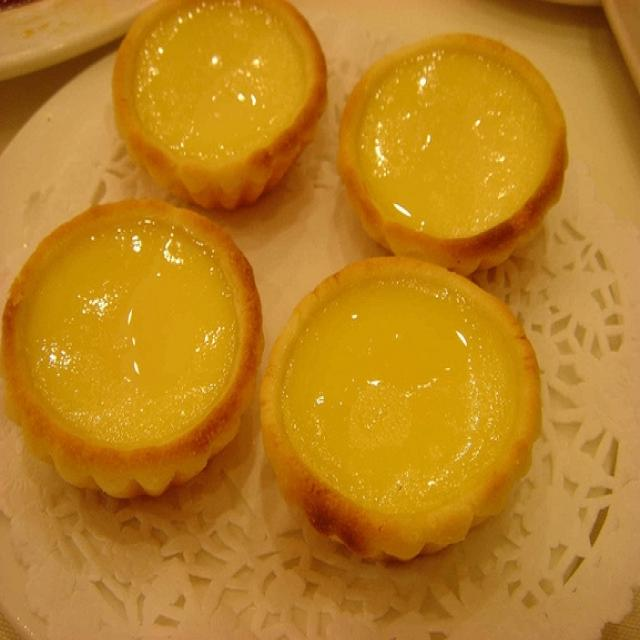炸货点心: (1, 1, 609, 608)
蛋糕甜品: (1, 1, 609, 608)
